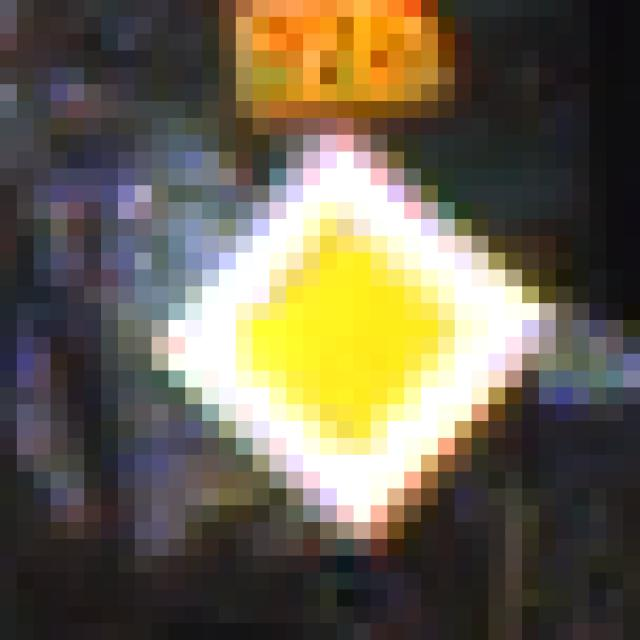Main Road: (85, 85, 557, 557)
